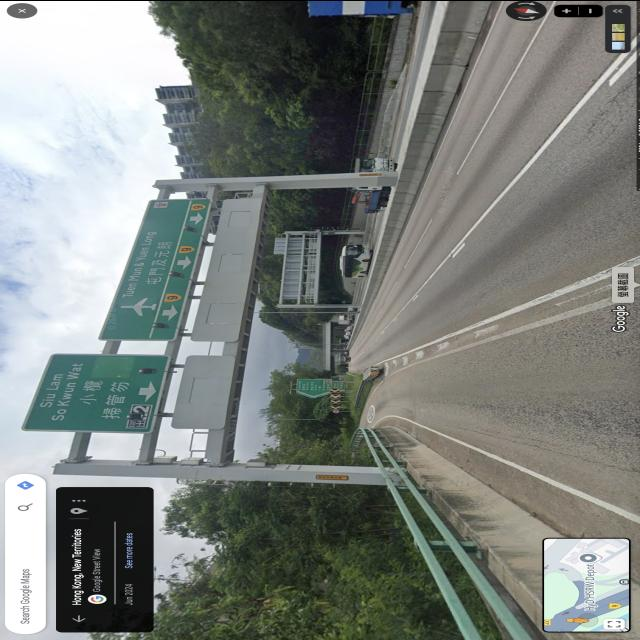Direction-Sign: (101, 198, 211, 338), (24, 353, 168, 431), (297, 377, 331, 398)
Order-Sign: (330, 409, 340, 412)
